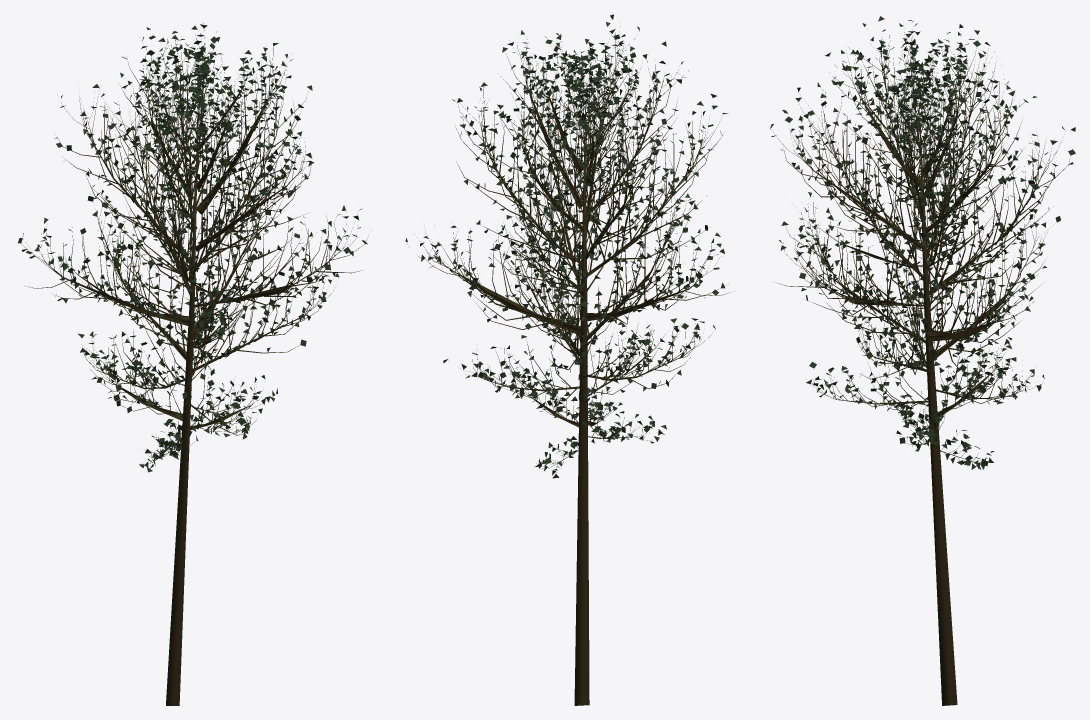
Rendered from mature-broadleaf.glb.
3 views of the same model, side by side, from view 1: azimuth 30°, elevation 25°; view 2: azimuth 150°, elevation 25°; view 3: azimuth 270°, elevation 25° (orthographic). The views are drawn at different scales.
Parts seen in each view (by area): view 1: tree.009; view 2: tree.009; view 3: tree.009.
Part boxes in pixels (box(x1,y1,x2,y2)): tree.009: box(18, 23, 369, 705); tree.009: box(405, 14, 729, 705); tree.009: box(770, 16, 1075, 705).
Size of the model in its own units: 3.5 by 7.5 by 3.11.
